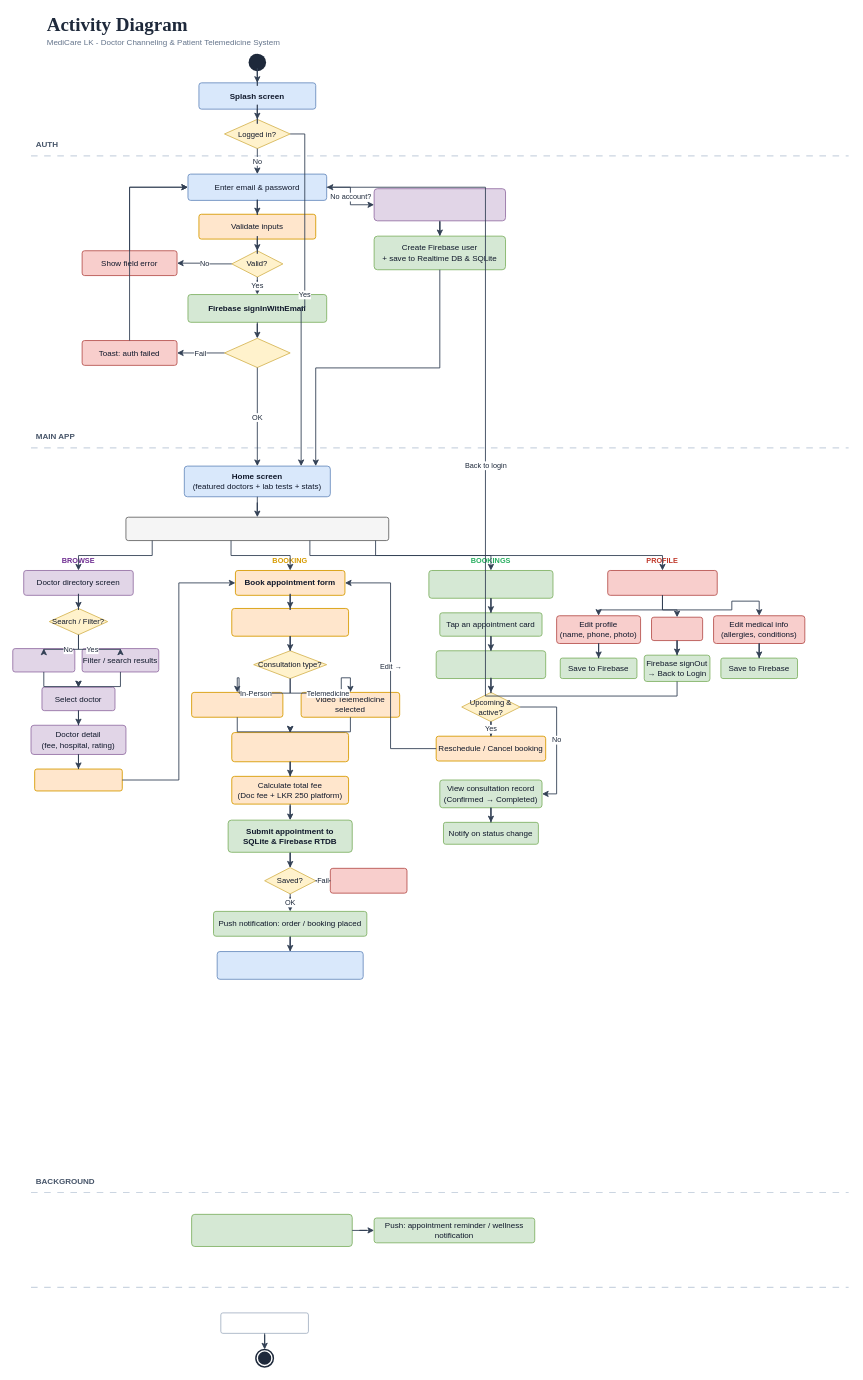
Image size: 863x1380. Some labels were removed from this diagram. Here are the shapes that lost their labels. From the top down, the centre of each, then its label:
At pixel 439 204: "Register screen (name, email, phone, pwd)".
At pixel 257 353: "Auth success?".
At pixel 257 528: "Bottom Nav: Home(Doctors) • Book • Bookings • Profile".
At pixel 490 584: "My bookings list (Upcoming, Completed, Cancelled)".
At pixel 662 582: "Profile screen".
At pixel 290 622: "Configure booking (patient info, symptoms/notes)".
At pixel 677 628: "Logout".
At pixel 43 660: "Load all doctors".
At pixel 490 664: "Appointment detail (status, specs, total)".
At pixel 237 704: "In-Person Clinic selected".
At pixel 290 747: "Pick calendar date & available time slot chip".
At pixel 78 779: "→ Book consultation".
At pixel 368 880: "Show error / retry".
At pixel 289 965: "Booking confirmation receipt (Unique Ref: MC-2026-XXXXX)".
At pixel 271 1230: "WorkManager: ReminderWorker (periodic sync / upcoming alert every 24h)".
At pixel 264 1322: "Session active / exit".
